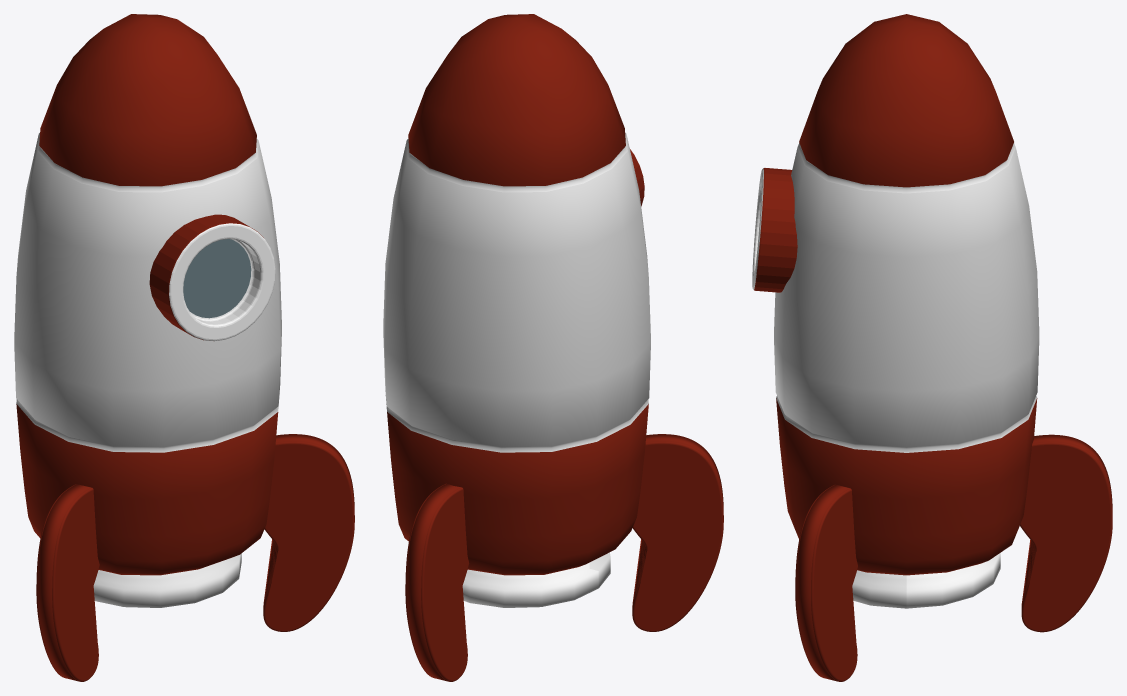
The model's file is Rocket.fbx.
3 renders of one model, left to right at view 1: azimuth 30°, elevation 25°; view 2: azimuth 150°, elevation 25°; view 3: azimuth 270°, elevation 25°, orthographic.
Parts seen in each view (by area): view 1: Rocket; view 2: Rocket; view 3: Rocket.
Boxes of the visible parts, x1,y1,x2,y2 form: Rocket: (14, 14, 354, 681); Rocket: (383, 14, 723, 681); Rocket: (752, 14, 1112, 681).
Size of the model in its own units: 286 by 524 by 282.
